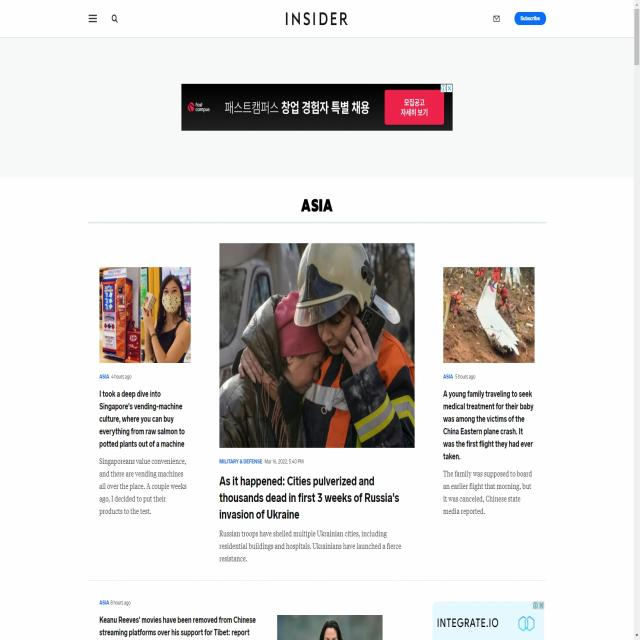menu-bar: (85, 2, 123, 34)
